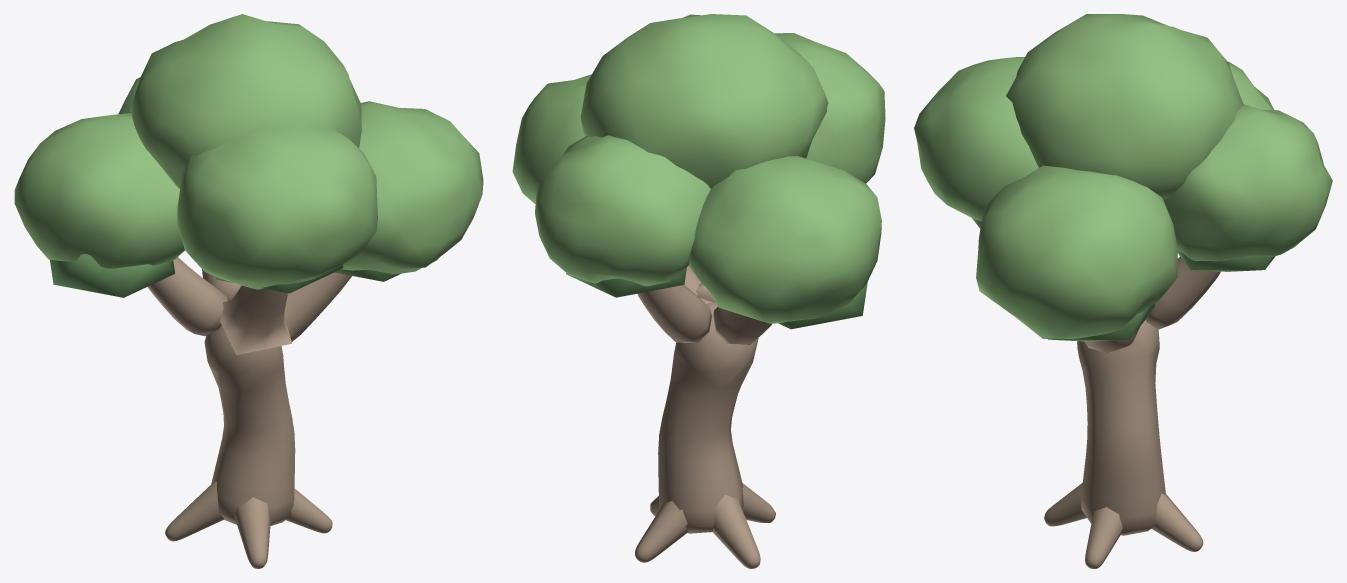
The model's file is tree.broadleaf.glb.
3 views of the same model, side by side, from view 1: azimuth 30°, elevation 25°; view 2: azimuth 150°, elevation 25°; view 3: azimuth 270°, elevation 25° (orthographic). The views are drawn at different scales.
Parts seen in each view (by area): view 1: Leaf, Bark, LeafDark; view 2: Leaf, Bark, LeafDark; view 3: Leaf, Bark, LeafDark.
Part boxes in pixels (x1,y1,x2,y2): Leaf: [14, 14, 483, 289]; Bark: [147, 257, 351, 568]; LeafDark: [50, 254, 400, 297]; Leaf: [512, 14, 885, 323]; Bark: [635, 266, 775, 568]; LeafDark: [566, 267, 867, 329]; Leaf: [914, 14, 1332, 338]; Bark: [1044, 256, 1220, 568]; LeafDark: [972, 218, 1275, 341].
Size of the model in its own units: 0.9733 by 1.21 by 0.8886.
